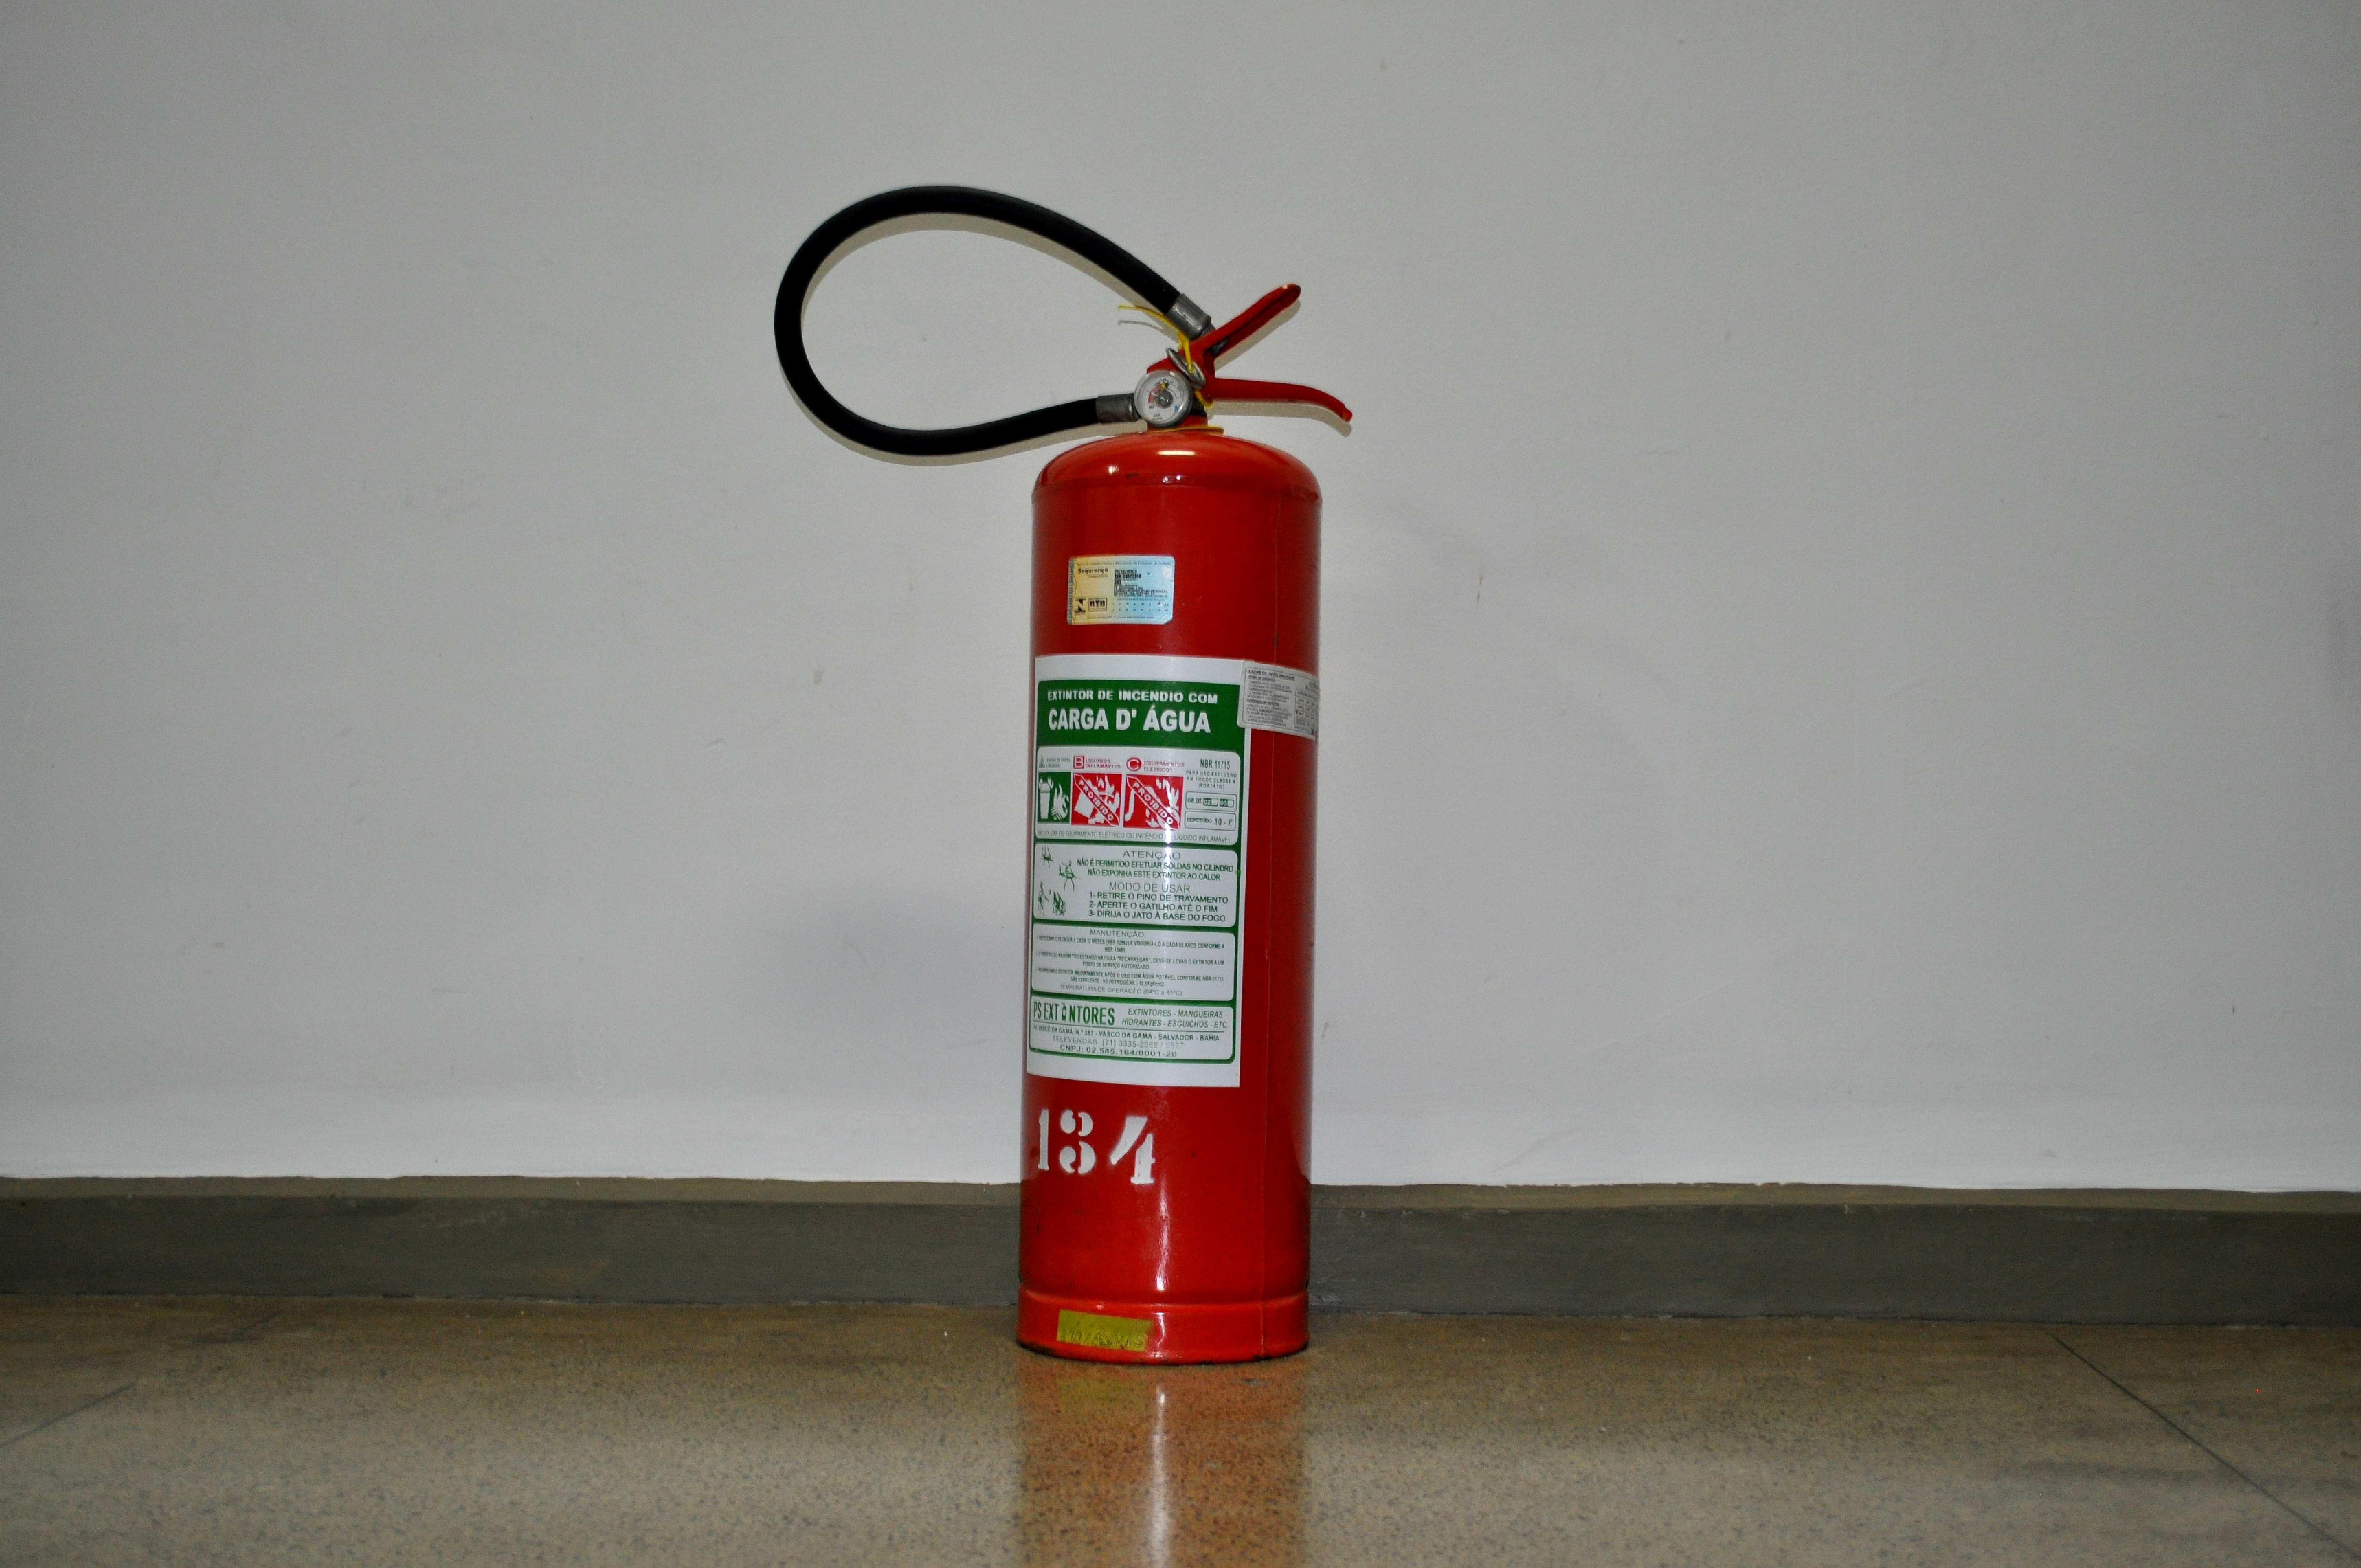Fire Extinguisher: (758, 131, 1428, 1384)
